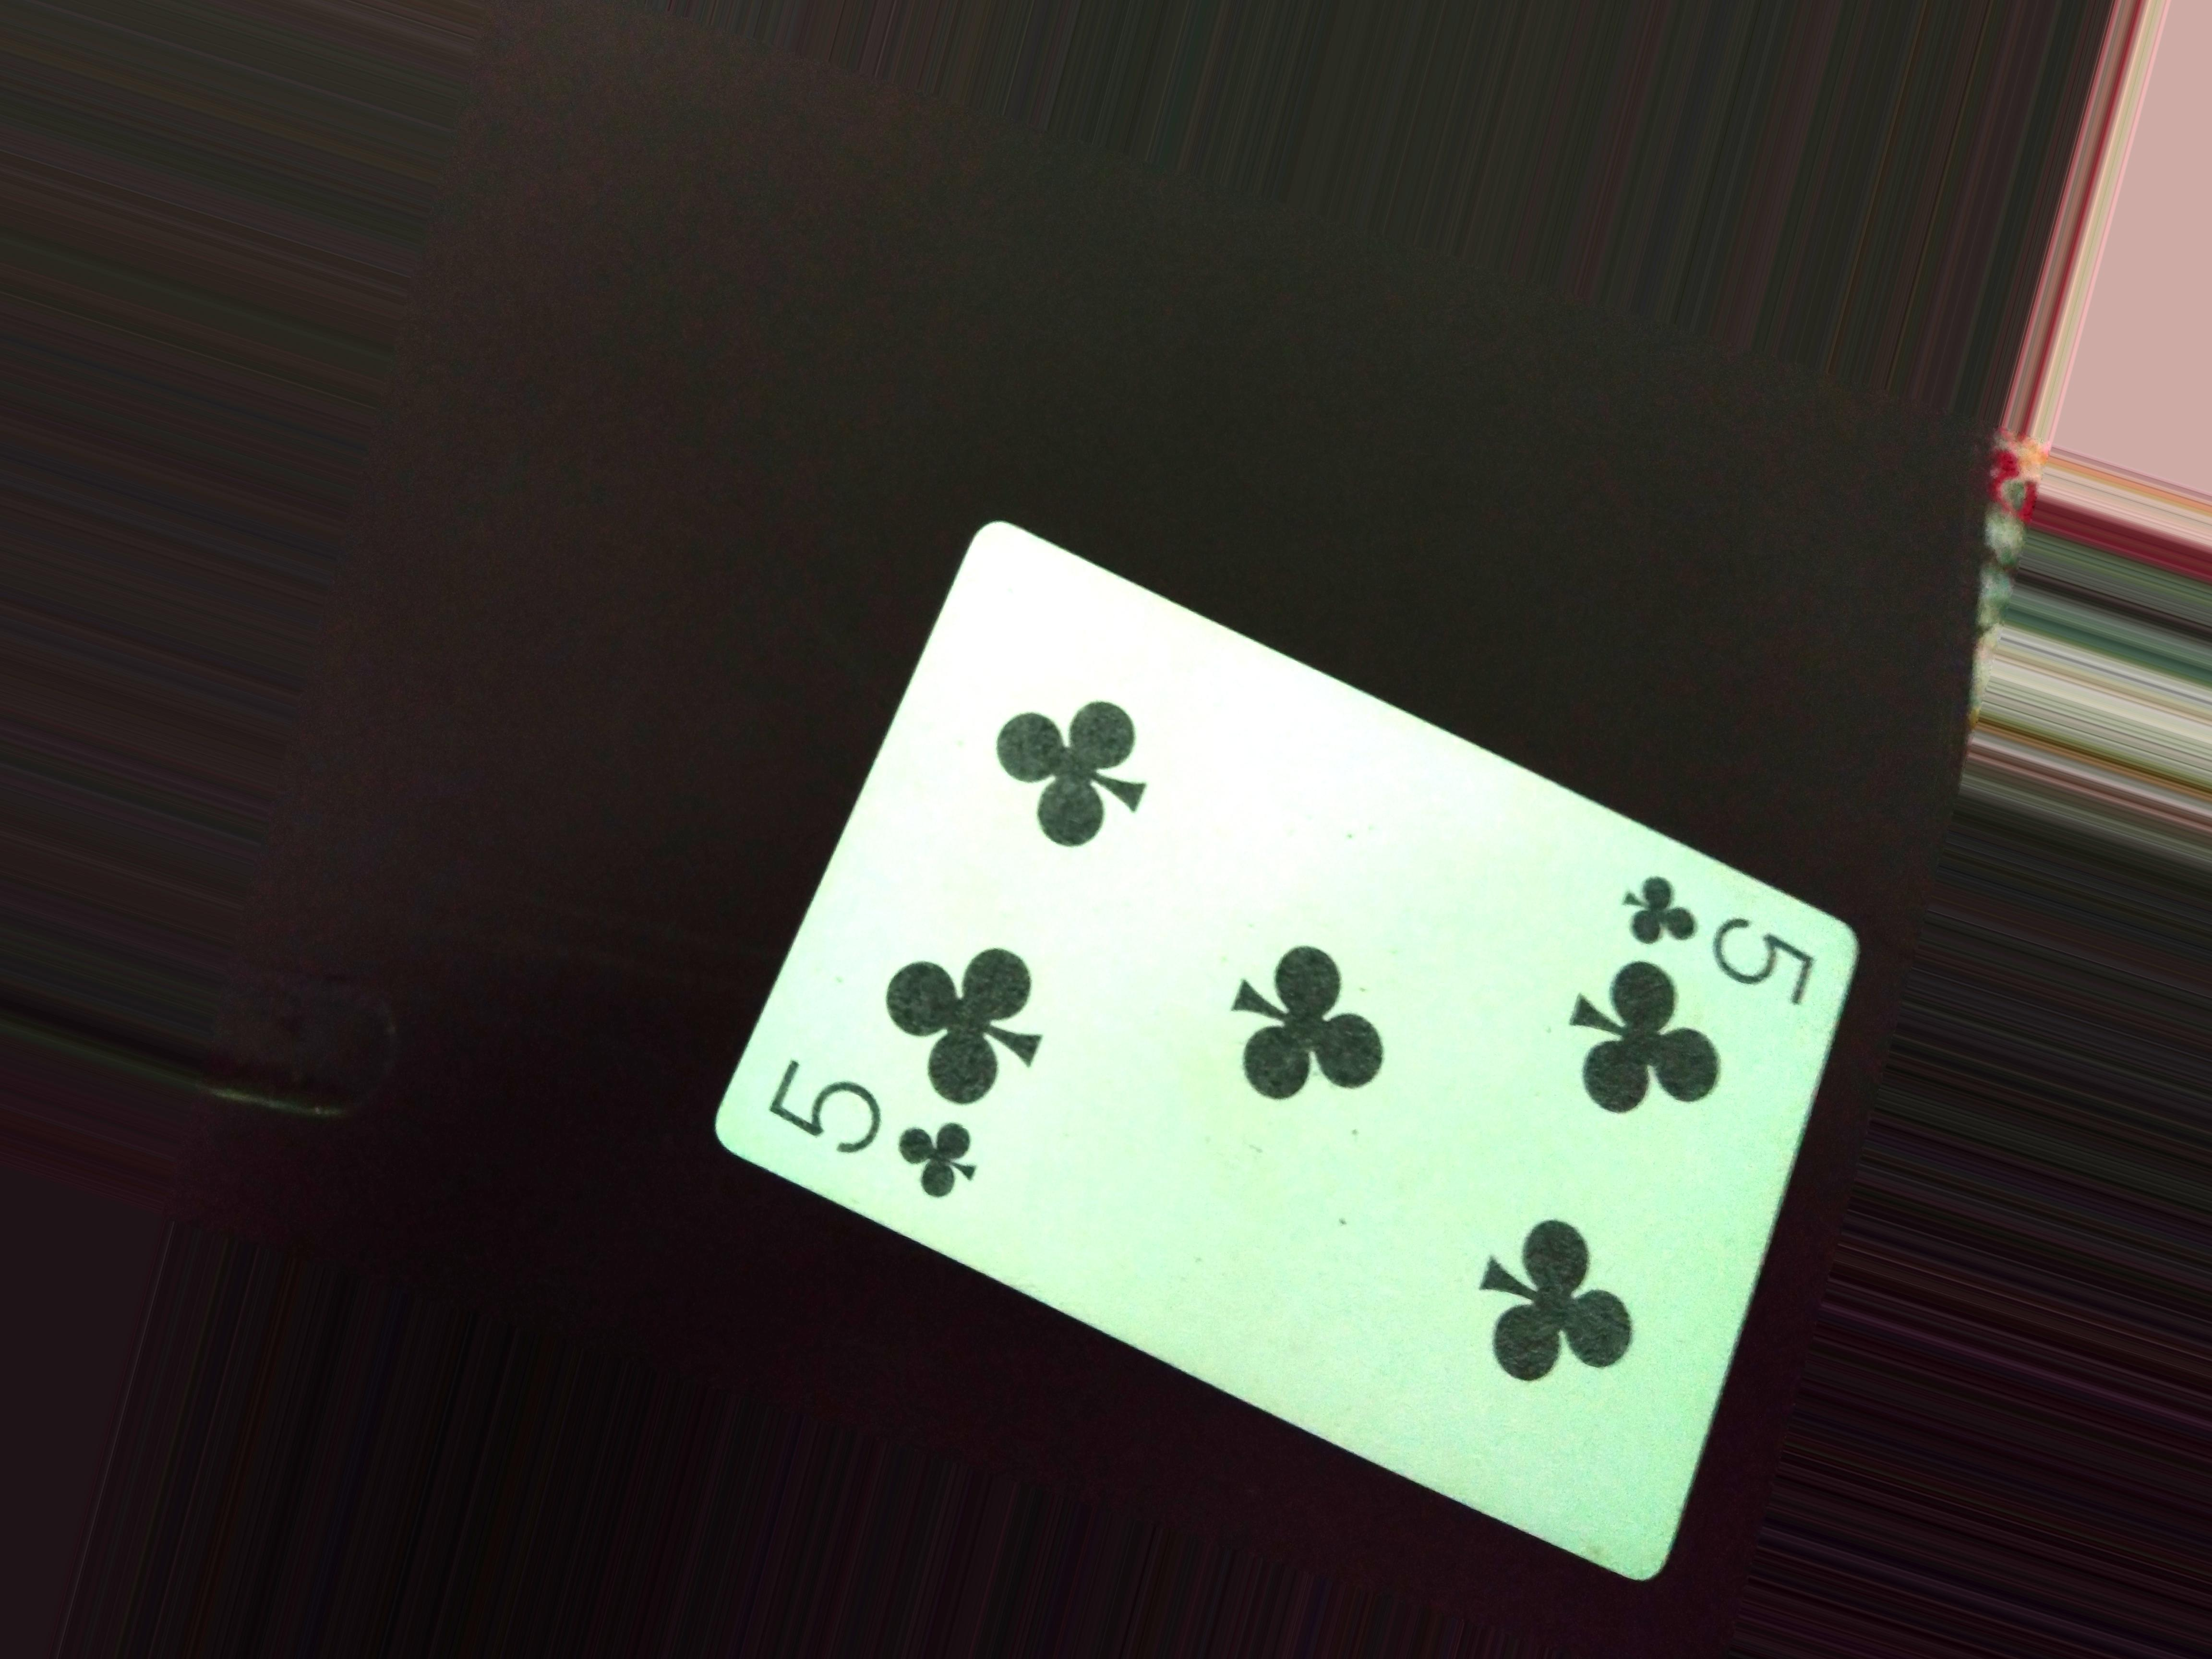5C: (752, 1054, 972, 1204)
